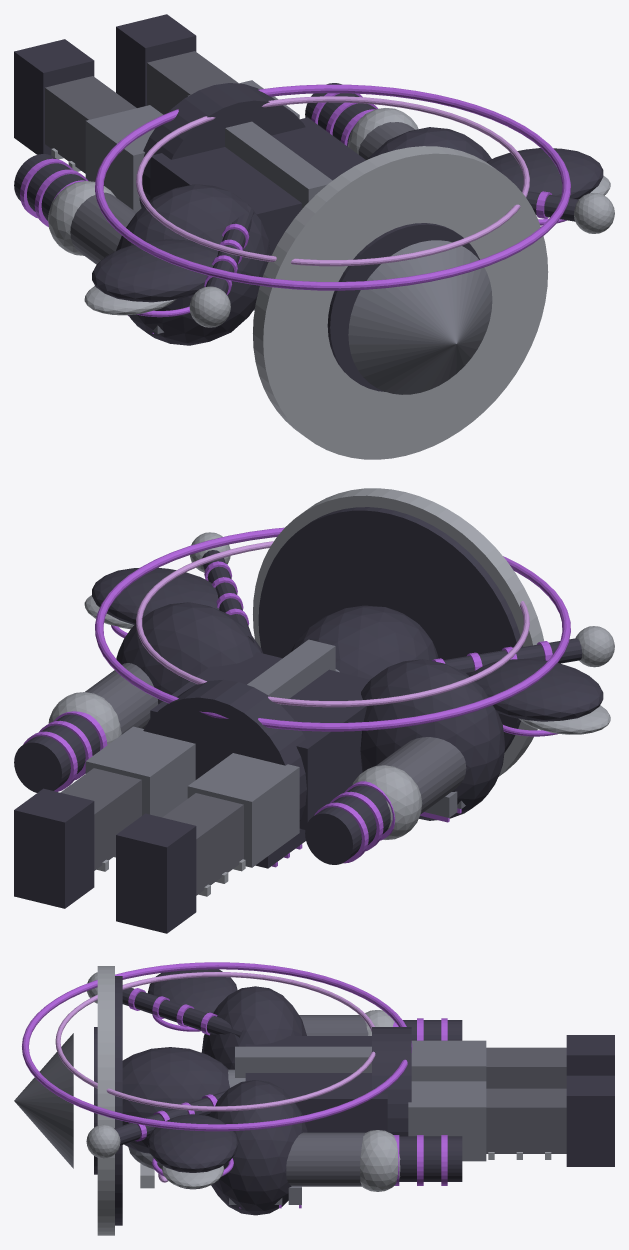
The model's file is samourai_cyberpunk_3d.glb.
3 renders of one model, top to bottom at view 1: azimuth 30°, elevation 25°; view 2: azimuth 150°, elevation 25°; view 3: azimuth 270°, elevation 25°, orthographic. The views are drawn at different scales.
Parts seen in each view (by area): view 1: Hat_brim, Kasa_crown, Shoulder_pauldron_-1, Violet_halo_outer, Torso_core, Waist_guard, Violet_halo_inner, Axe_blade_-1, Boot_-1, Hat_rim, Greave_-1, Thigh_-1 (+16 smaller); view 2: Hat_underbrim, Shoulder_pauldron_-1, Waist_guard, Torso_core, Boot_-1, Boot_1, Hat_brim, Shoulder_pauldron_1, Violet_halo_outer, Thigh_-1, Helmeted_head, Thigh_1 (+19 smaller); view 3: Shoulder_pauldron_1, Violet_halo_outer, Torso_core, Helmeted_head, Greave_1, Thigh_1, Shoulder_pauldron_-1, Boot_1, Hat_brim, Upper_arm_1, Violet_halo_inner, Axe_blade_1 (+18 smaller).
Part boxes in pixels (x1,y1,x2,y2): Hat_brim: (253,146,548,459); Kasa_crown: (348,240,492,394); Shoulder_pauldron_-1: (116,184,270,345); Violet_halo_outer: (95,84,570,290); Torso_core: (150,117,365,255); Waist_guard: (139,83,305,207); Violet_halo_inner: (136,96,529,266); Axe_blade_-1: (92,239,218,302); Boot_-1: (14,39,94,155); Hat_rim: (327,223,479,391); Greave_-1: (45,76,136,173); Thigh_-1: (85,105,163,212); Hat_underbrim: (258,507,523,752); Shoulder_pauldron_-1: (360,659,504,820); Waist_guard: (143,679,306,821); Torso_core: (150,652,370,829); Boot_-1: (116,813,196,933); Boot_1: (14,788,94,908); Hat_brim: (253,488,543,776); Shoulder_pauldron_1: (116,602,262,704); Violet_halo_outer: (95,527,570,731); Thigh_-1: (187,753,299,867); Helmeted_head: (290,605,438,679); Thigh_1: (85,726,195,817); Shoulder_pauldron_1: (209,1080,307,1215); Violet_halo_outer: (22,962,412,1131); Torso_core: (245,1036,387,1132); Helmeted_head: (122,1047,229,1153); Greave_1: (486,1088,566,1153); Thigh_1: (408,1081,486,1161); Shoulder_pauldron_-1: (201,986,306,1069); Boot_1: (566,1075,614,1166); Hat_brim: (97,966,114,1235); Upper_arm_1: (286,1132,365,1186); Violet_halo_inner: (55,972,375,1111); Axe_blade_1: (147,1114,238,1172).
Size of the model in its own units: 3.46 by 1.9 by 4.23.
